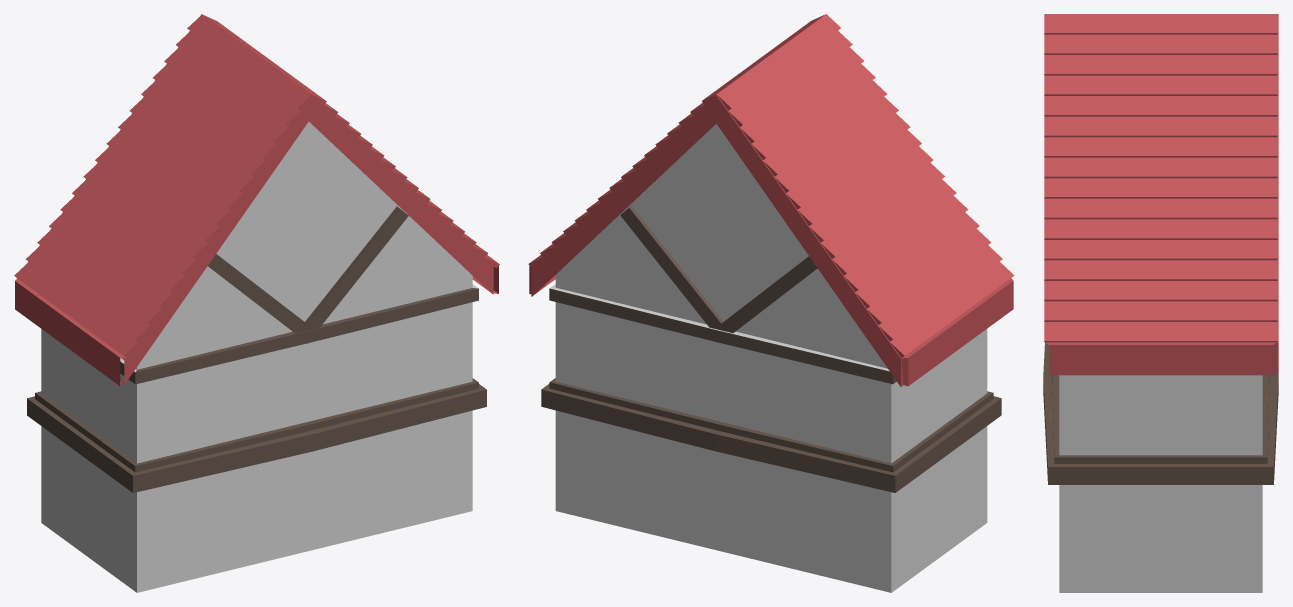
The model's file is stage1_house_m.fbx.
3 renders of one model, left to right at view 1: azimuth 30°, elevation 25°; view 2: azimuth 150°, elevation 25°; view 3: azimuth 270°, elevation 25°, orthographic. The views are drawn at different scales.
Parts seen in each view (by area): view 1: house; view 2: house; view 3: house.
Boxes of the visible parts, x1,y1,x2,y2 form: house: (14, 14, 499, 592); house: (528, 14, 1014, 592); house: (1043, 14, 1278, 592).
Bounding box in the file's own units: 13632 × 15914 × 6900.
